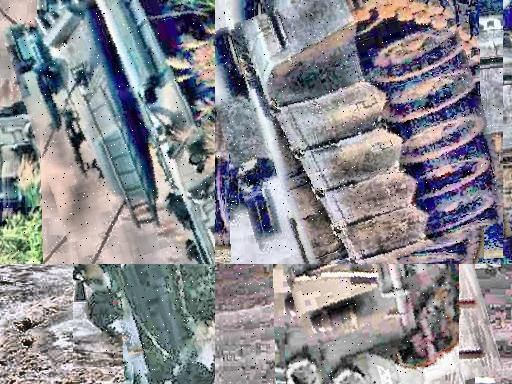tanks: (216, 1, 503, 265), (6, 1, 216, 265), (282, 265, 459, 384), (105, 265, 216, 384)
